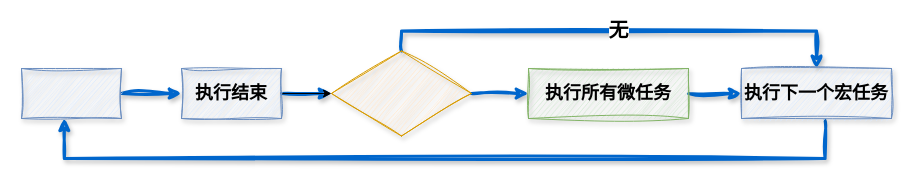
Some shapes in this 915 by 192 pixel diagram are drawn without their labels. Each missing label, with the centre of its shape:
宏任务: [72,95]
有微任务？: [402,94]
